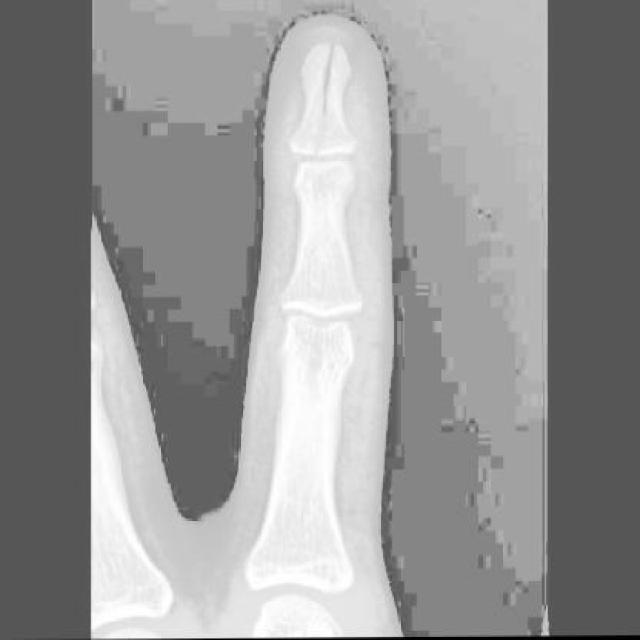bone: (291, 36, 365, 147)
